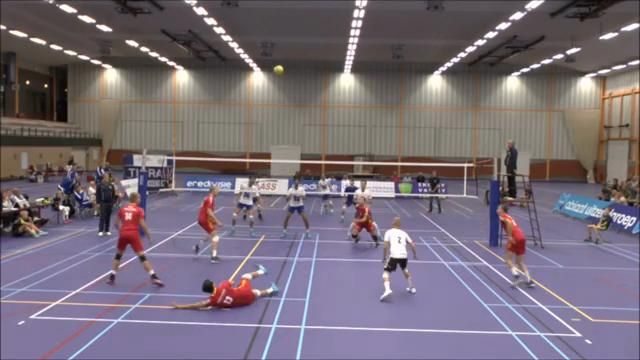Dig: (170, 260, 281, 314)
Player: (108, 192, 163, 286), (380, 217, 416, 300), (497, 204, 533, 286), (193, 187, 222, 262), (281, 178, 309, 237), (230, 177, 258, 235), (350, 198, 378, 247), (340, 178, 357, 222), (317, 174, 333, 214), (354, 180, 371, 204), (253, 193, 263, 220)
ball: (271, 65, 284, 75)
